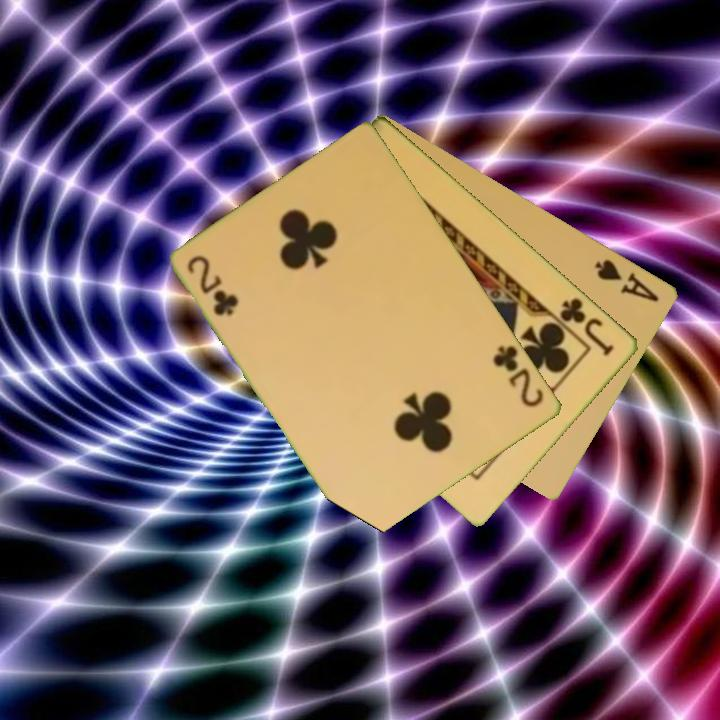2c: (490, 341, 547, 411), (184, 251, 241, 320)
As: (592, 255, 662, 305)
Jc: (557, 293, 618, 359)
